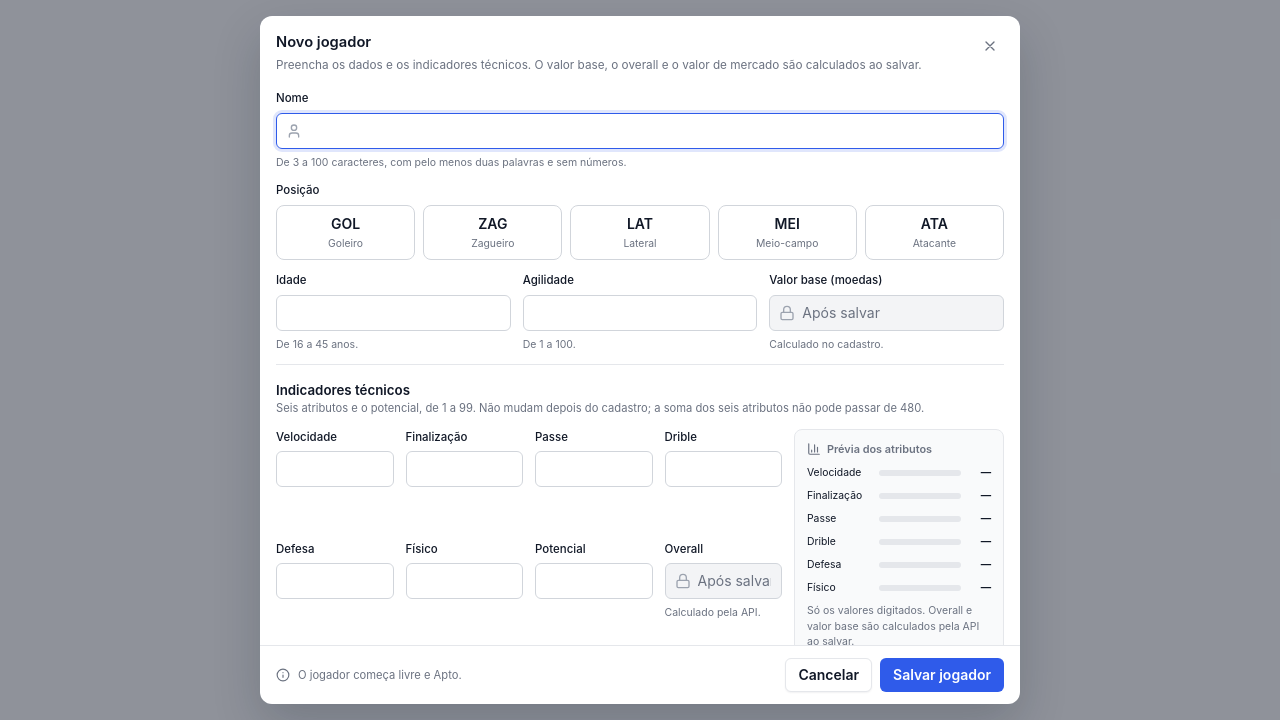
Test: PlayerCreateForm › checks text length and numeric ranges next to each field
In the field labelled "Nome": (640, 131) [276,113,1004,149], type "Al"
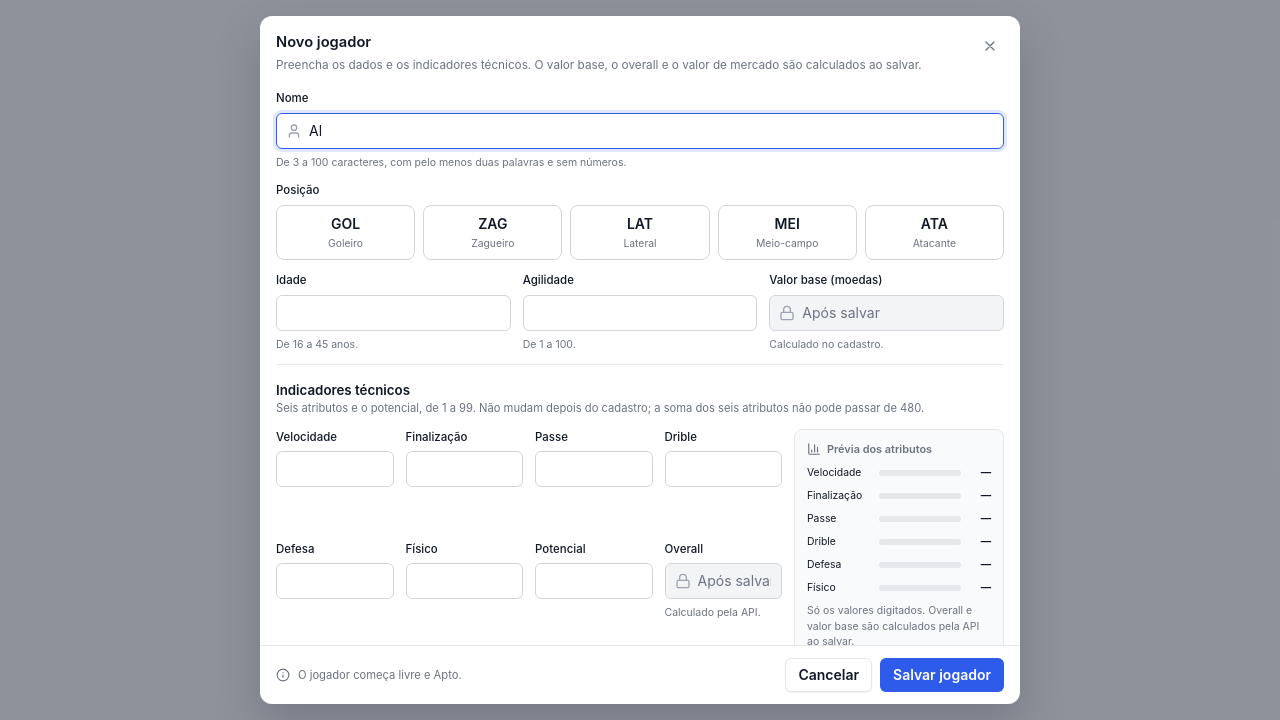
In the number field labelled "Agilidade": (640, 313) [523,295,757,331], type "101"
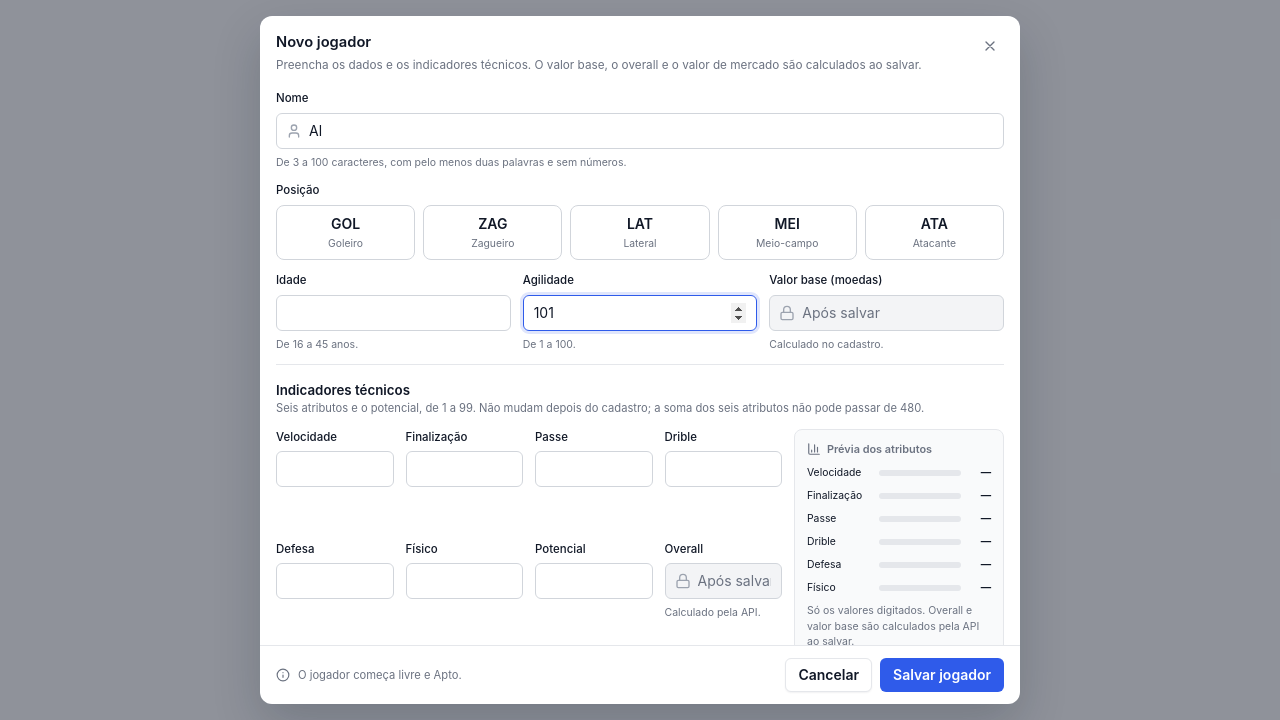
In the number field labelled "Idade": (393, 313) [276,295,511,331], type "15"
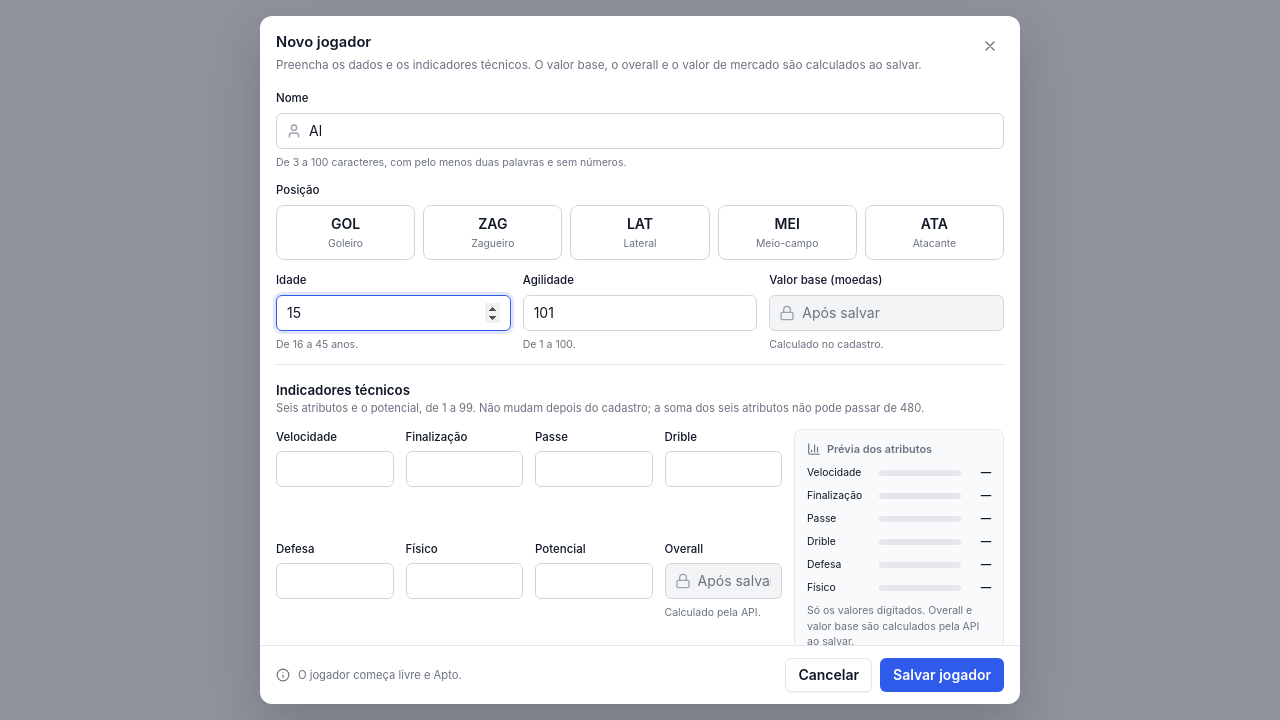
In the number field labelled "Velocidade": (335, 469) [276,451,394,487], type "100"
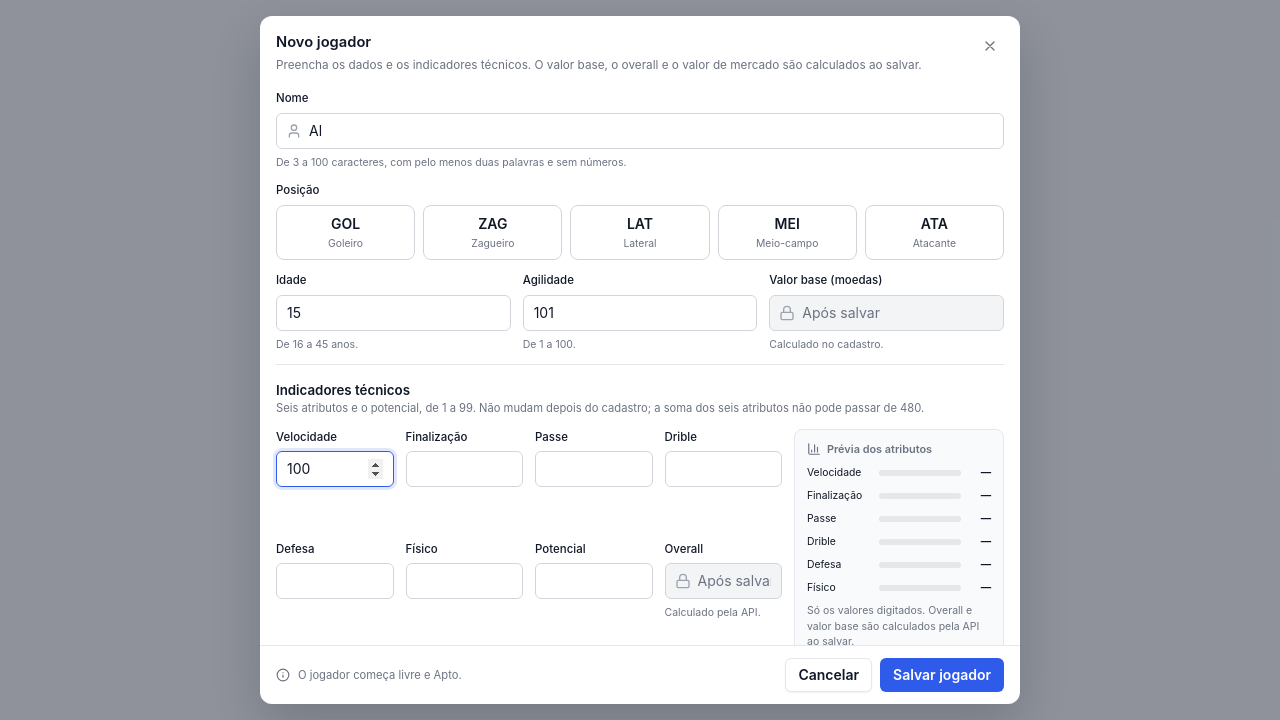
Click the button "Salvar jogador": (942, 675) [880,658,1004,692]
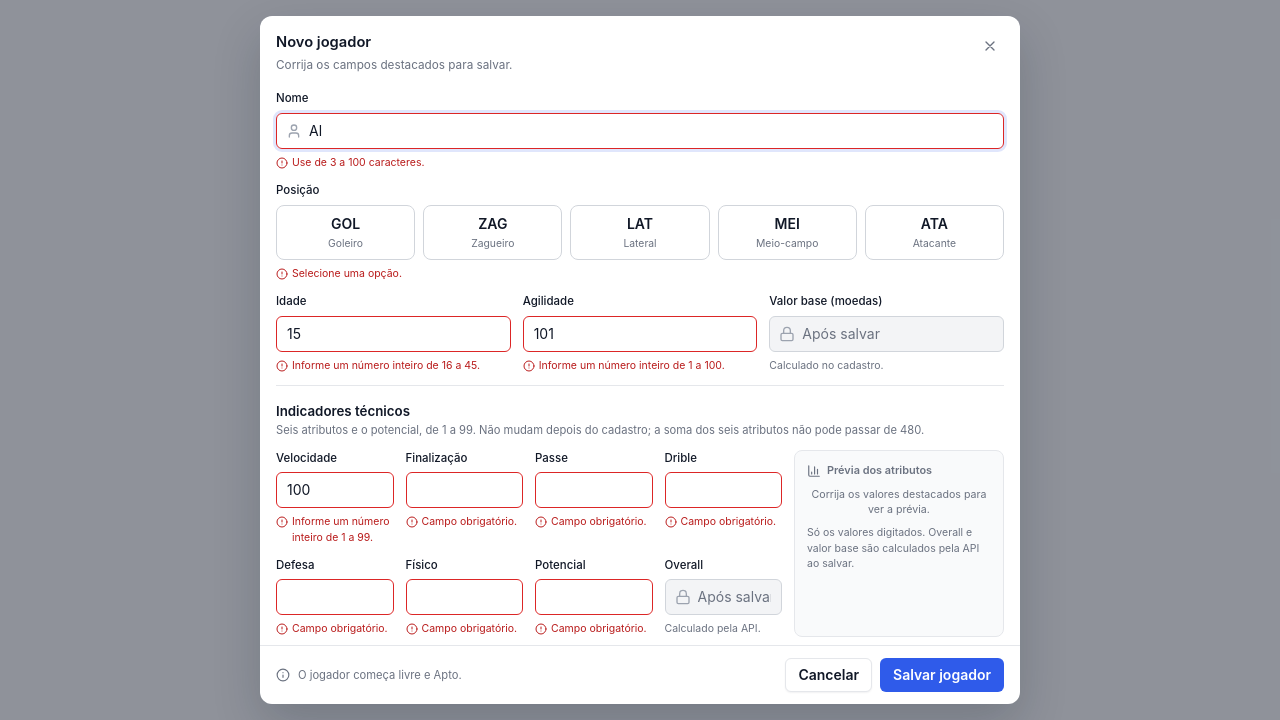
Expected: the text "Corrija os valores destacados para ver a prévia." is shown, [807,487,991,517]
